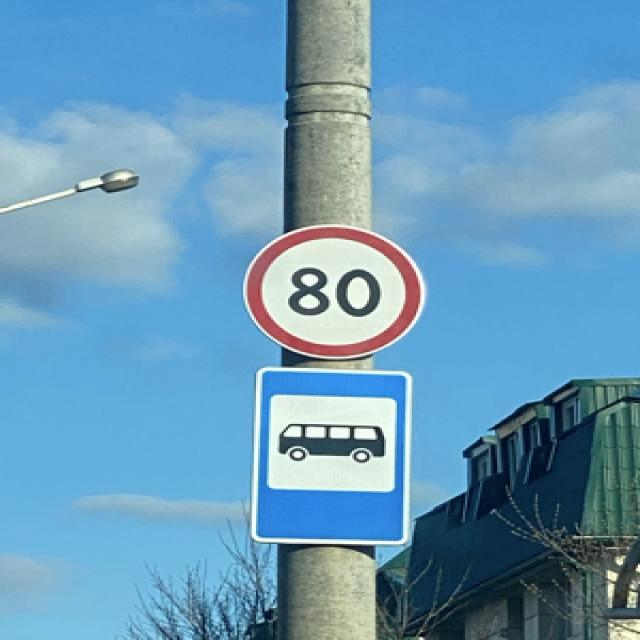speedlimit: (241, 224, 422, 358)
